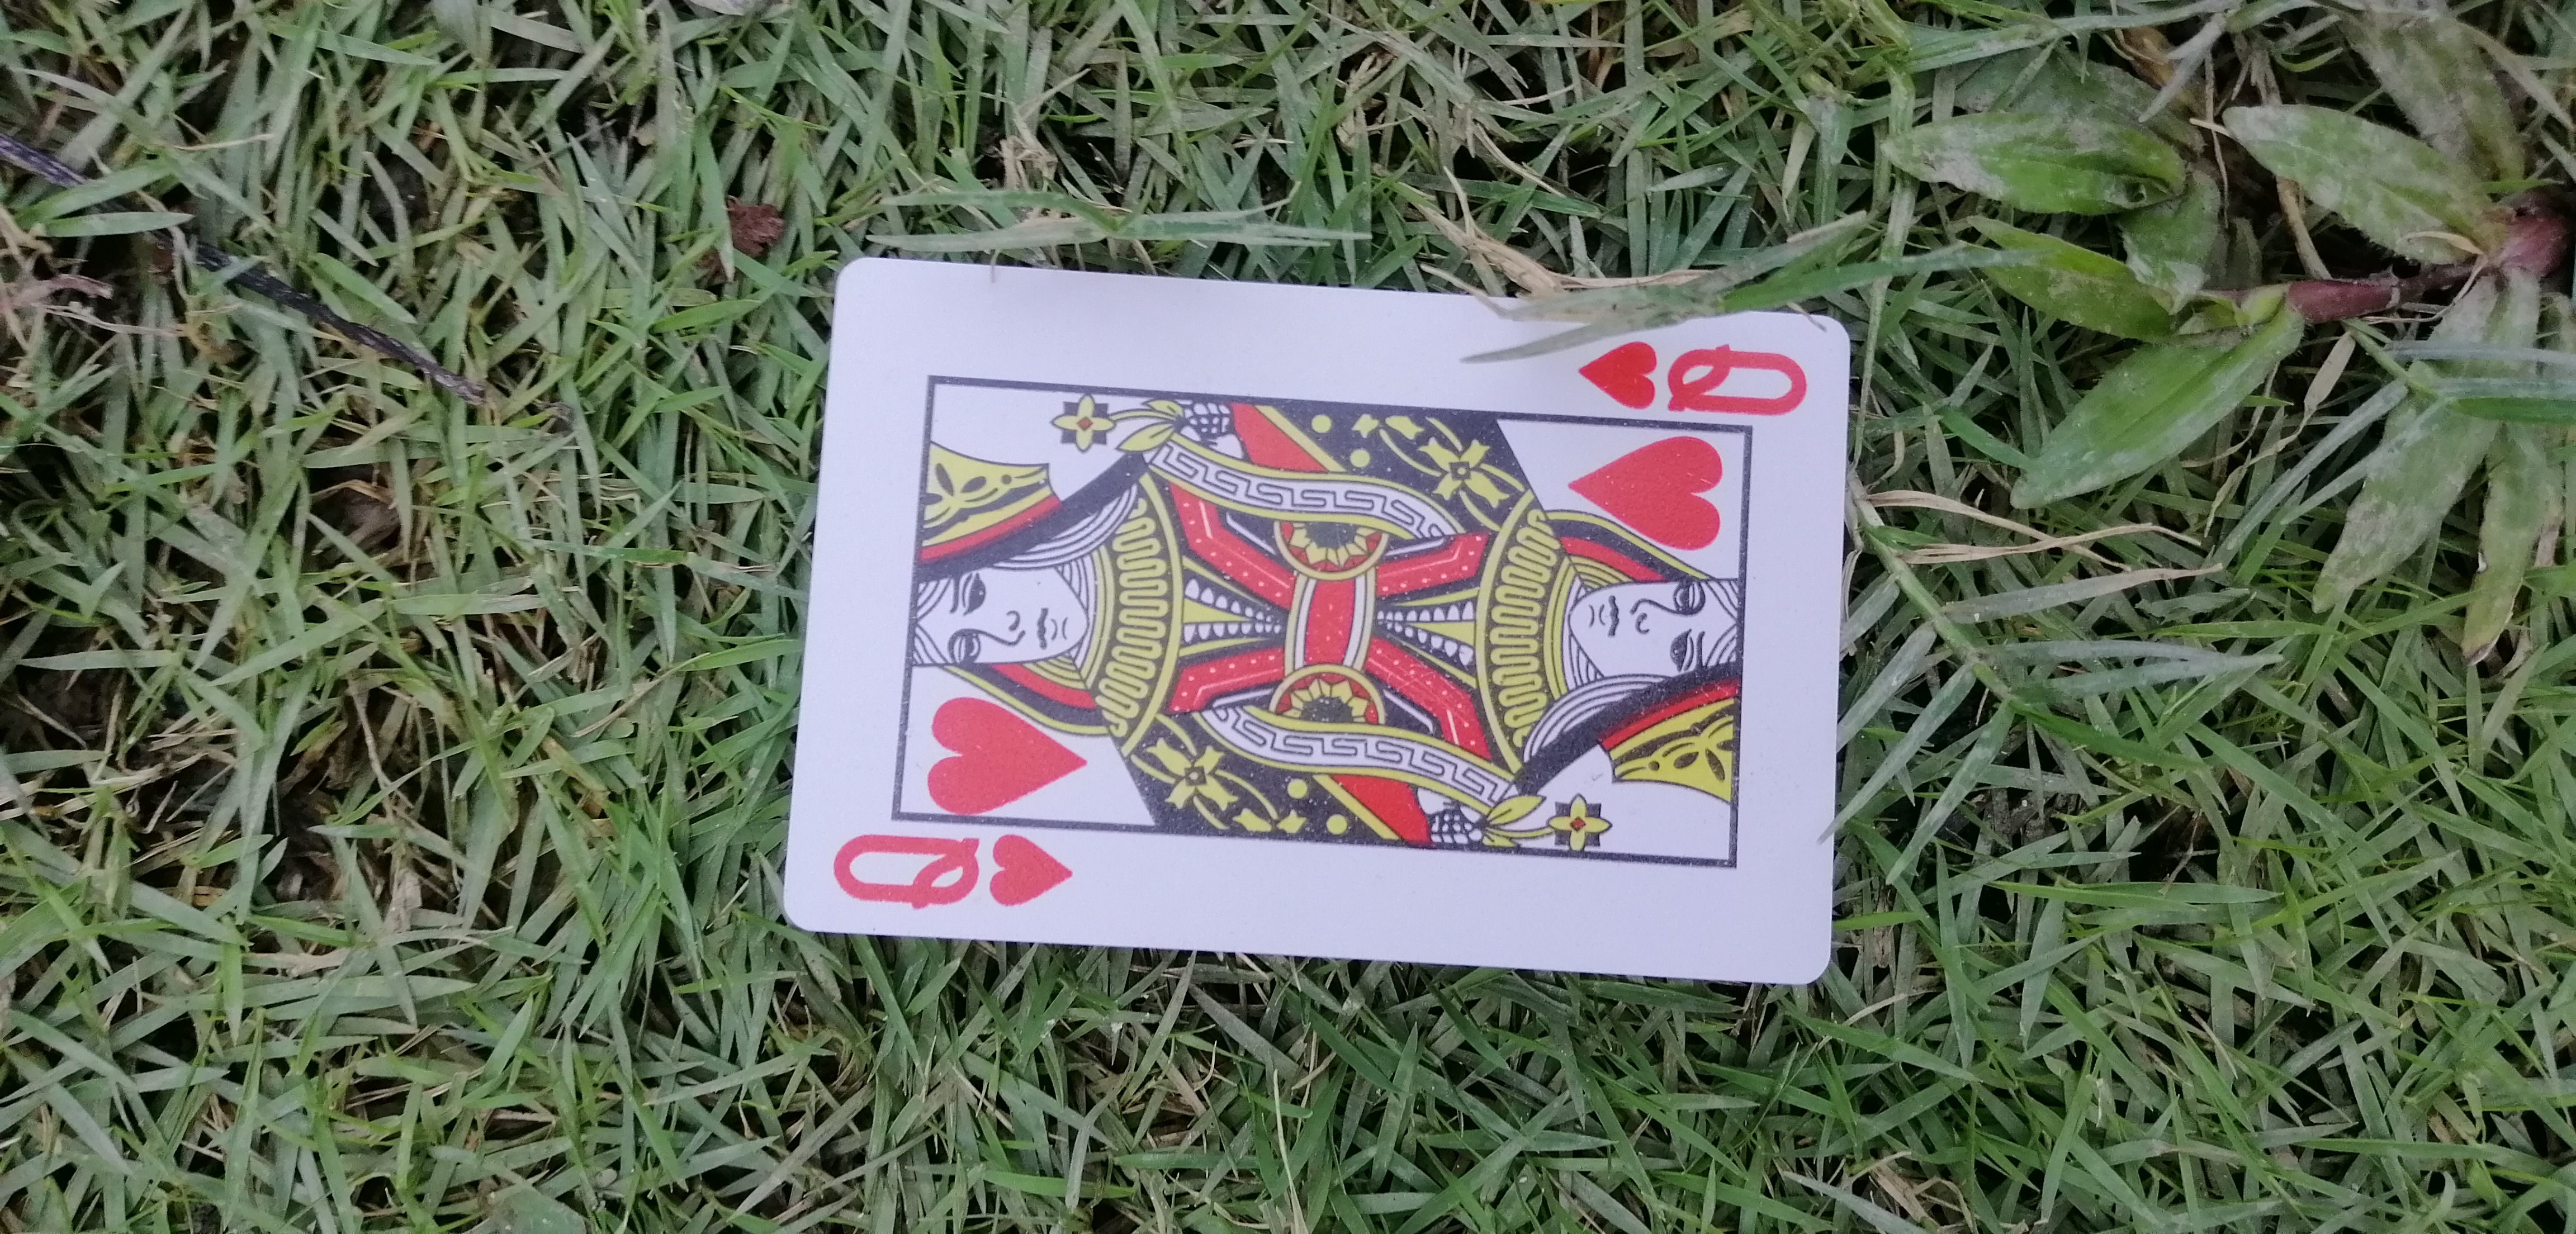queen: (731, 223, 1870, 1001)
